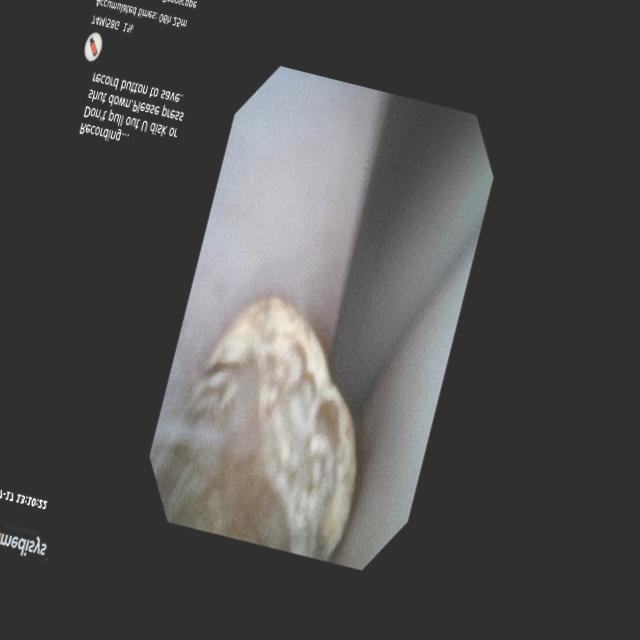stone-new: (149, 298, 354, 559)
